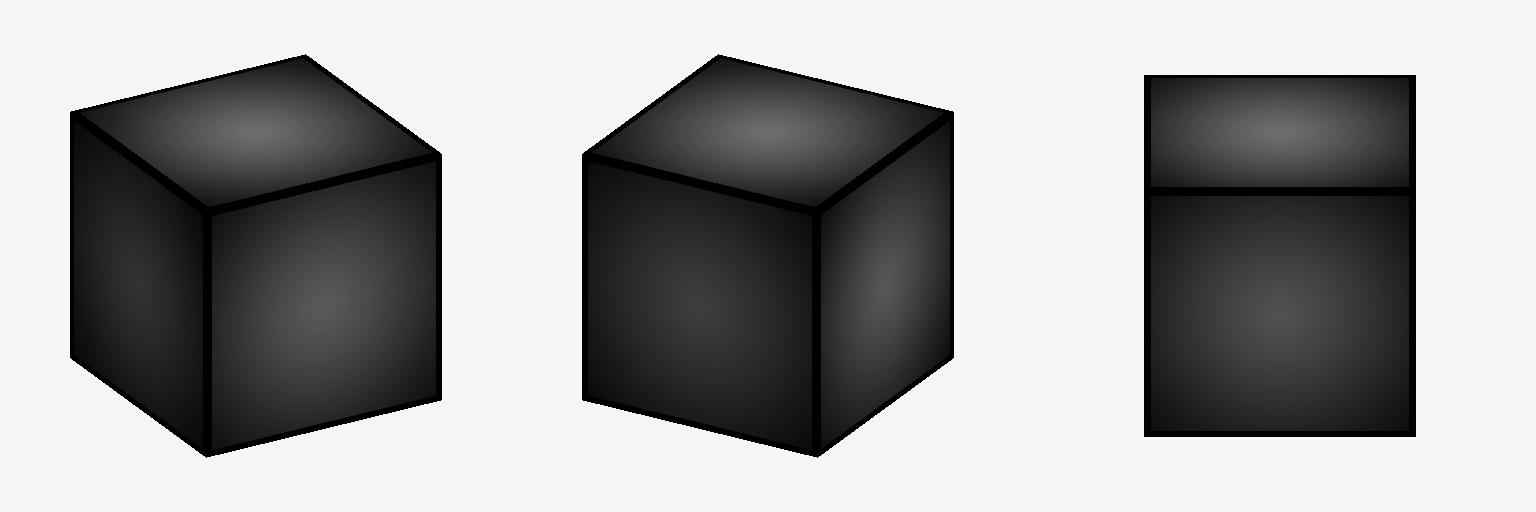
3 renders of one model, left to right at view 1: azimuth 30°, elevation 25°; view 2: azimuth 150°, elevation 25°; view 3: azimuth 270°, elevation 25°, orthographic.
Visible parts, largest first — view 1: Cube; view 2: Cube; view 3: Cube.
Boxes of the visible parts, x1,y1,x2,y2 form: Cube: [70, 54, 441, 457]; Cube: [582, 54, 953, 457]; Cube: [1144, 75, 1415, 436].
Size of the model in its own units: 2 by 2 by 2.
Materials: 1 (1 with a texture image).